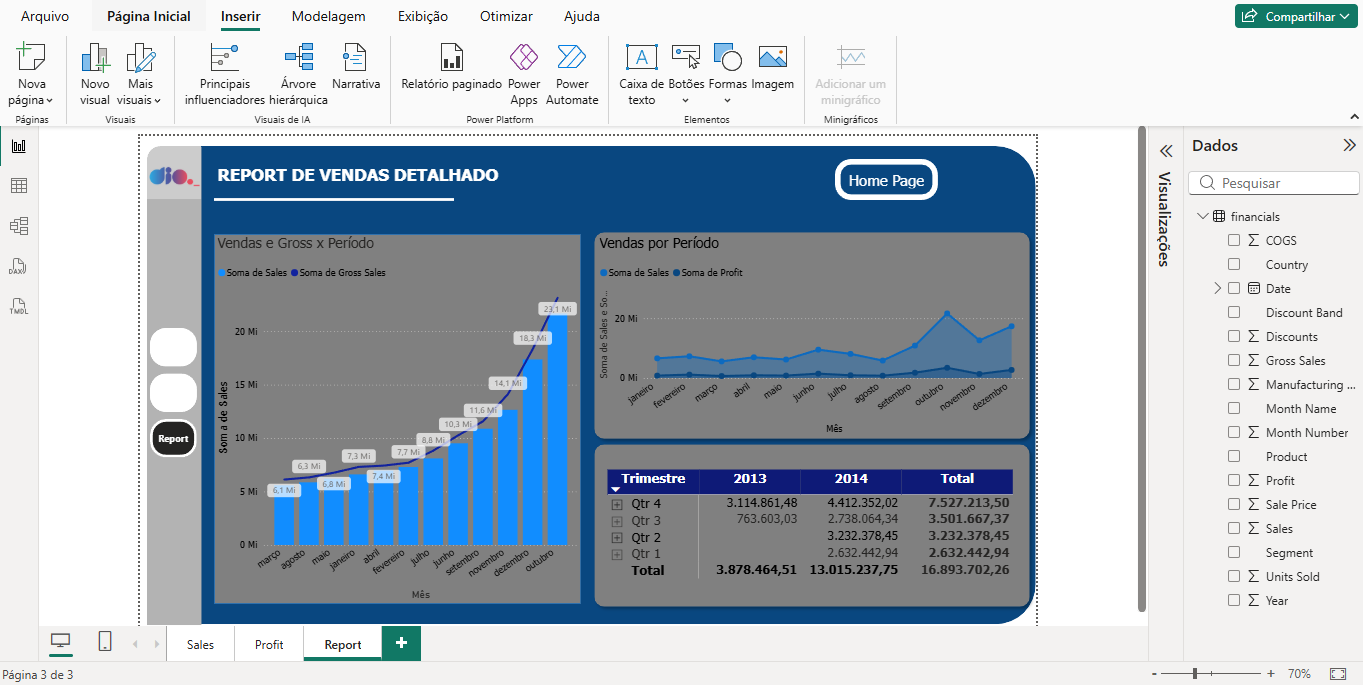

The dashboard page shown, as its layout file describes it:
{"tool":"powerbi","page":{"name":"Report","canvas":[1280,720],"ordinal":2},"visuals":[{"type":"shape","box":[22.9,14.3,1256.7,683.3],"z":0},{"type":"shape","box":[10,15,78.3,683.3],"z":1000},{"type":"shape","box":[105.7,140,524.3,528.6],"z":2000},{"type":"shape","box":[10.2,14.6,77.6,76.1],"z":3000},{"type":"shape","box":[105.7,52.9,342.9,75.7],"z":4000},{"type":"textbox","box":[105.7,35.7,448.6,45.7],"z":5000},{"type":"shape","box":[640,128.6,640,312.9],"z":6000},{"type":"image","box":[11.3,38.7,75.7,38.6],"z":8000},{"type":"shape","box":[640,431.4,640,250],"z":9000},{"type":"pivotTable","fields":{"Columns":["financials.Date.Variation.Hierarquia de datas.Ano"],"Rows":["financials.Date.Variation.Hierarquia de datas.Trimestre","financials.Date.Variation.Hierarquia de datas.Mês"],"Values":["Sum(financials.Profit)"]},"box":[662.9,471.4,592.9,171.4],"z":10000},{"type":"lineClusteredColumnComboChart","title":"Vendas e Gross x Período","fields":{"Category":["financials.Date.Variation.Hierarquia de datas.Mês"],"Y":["Sum(financials.Sales)"],"Y2":["Sum(financials.Gross Sales)"]},"box":[105.7,140,524.3,528.6],"z":11000},{"type":"areaChart","title":"Vendas por Período","fields":{"Category":["financials.Date.Variation.Hierarquia de datas.Mês"],"Y":["Sum(financials.Sales)","Sum(financials.Profit)"]},"box":[651.4,140,617.1,291.4],"z":11001},{"type":"actionButton","box":[992.9,32.9,147.1,58.6],"z":11002},{"type":"pageNavigator","box":[14.3,274.3,67.1,185.7],"z":11004}]}

Visuals, with their boxes on the page's 1280x720 design canvas (x1, y1, x2, y2). These are canvas units, not pixel positions in the 1363x685 screenshot, which may show the page scaled, cropped or inside an application window:
shape: 23:14:1280:698
shape: 10:15:88:698
shape: 106:140:630:669
shape: 10:15:88:91
shape: 106:53:449:129
textbox: 106:36:554:81
shape: 640:129:1280:442
image: 11:39:87:77
shape: 640:431:1280:681
pivotTable - financials.Date.Variation.Hierarquia de datas.Ano x financials.Date.Variation.Hierarquia de datas.Trimestre: 663:471:1256:643
"Vendas e Gross x Período" lineClusteredColumnComboChart: 106:140:630:669
"Vendas por Período" areaChart: 651:140:1268:431
actionButton: 993:33:1140:92
pageNavigator: 14:274:81:460
